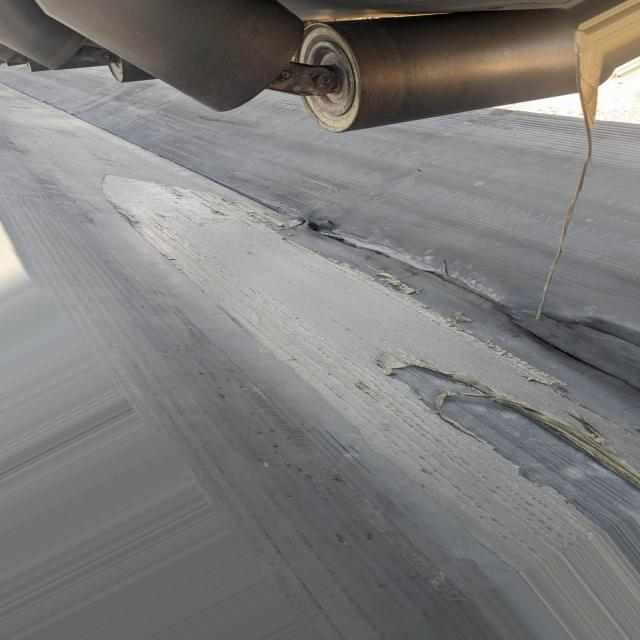Roller: (300, 8, 573, 130), (62, 0, 311, 117)
Tear: (258, 220, 640, 433), (393, 363, 636, 553)
